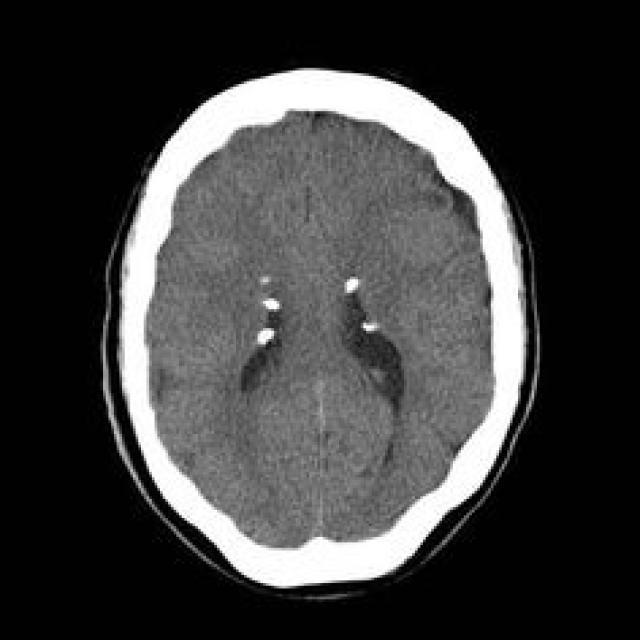No_Tumor: (116, 69, 526, 588)
